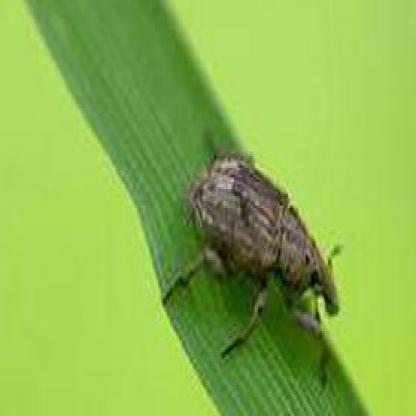rice-bug: (181, 154, 344, 337)
